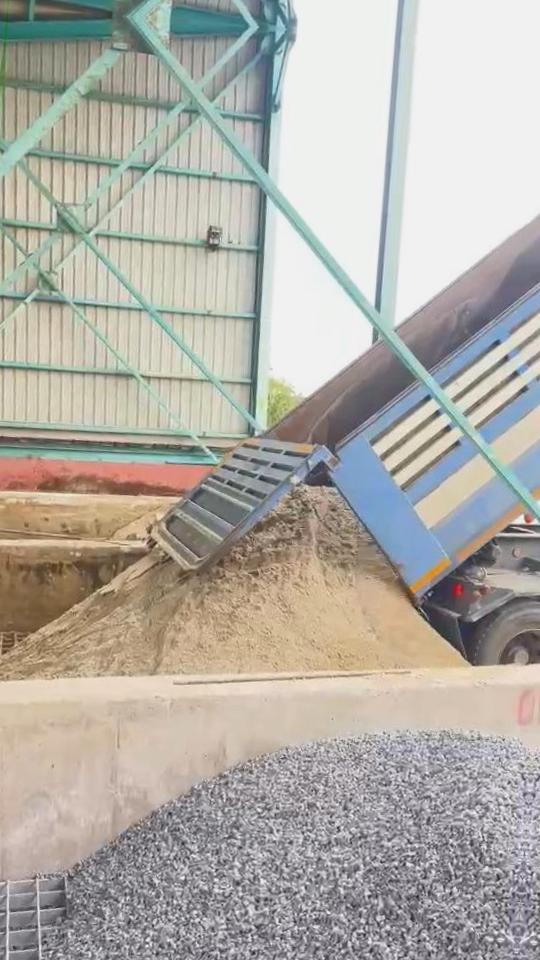gravel: (20, 732, 532, 960)
sand: (0, 487, 462, 679), (110, 501, 172, 541)
